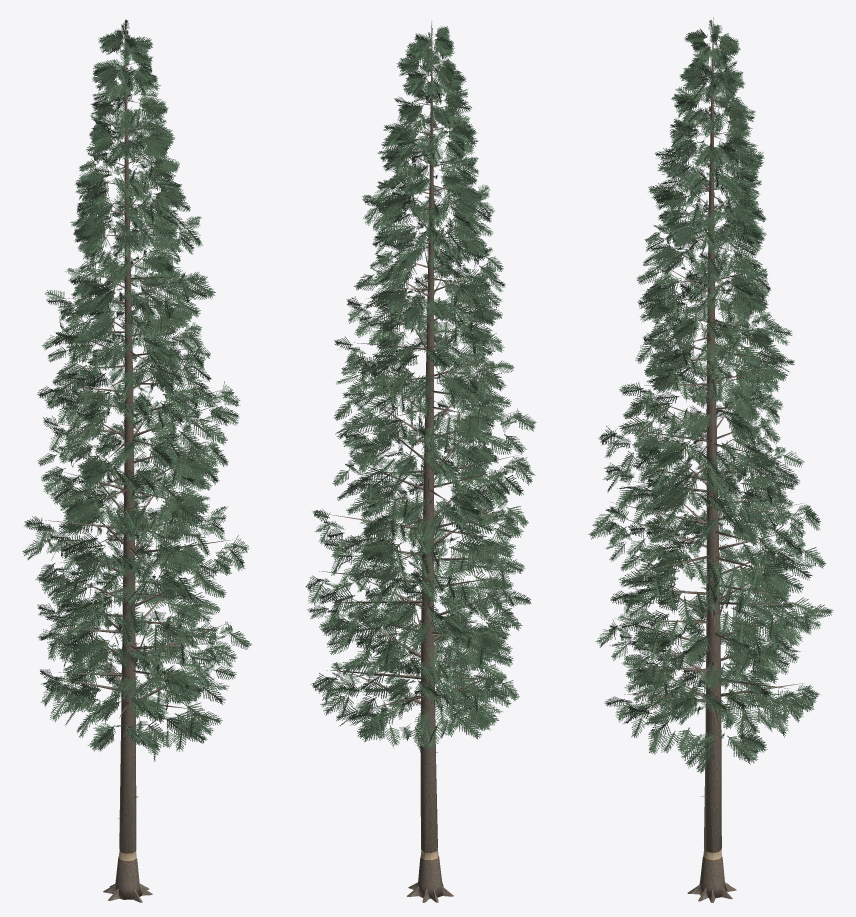
File: Sitka_RingBarked_01_Fresh_LOD2.fbx
The picture shows the model from 3 angles, left to right: view 1: azimuth 30°, elevation 25°; view 2: azimuth 150°, elevation 25°; view 3: azimuth 270°, elevation 25°; orthographic projection.
Parts seen in each view (by area): view 1: Sitka_RingBarked_01_Fresh_LOD2_Foliage, Sitka_RingBarked_01_Fresh_LOD2_Trunk, Sitka_RingBarked_01_Fresh_LOD2_Branches; view 2: Sitka_RingBarked_01_Fresh_LOD2_Foliage, Sitka_RingBarked_01_Fresh_LOD2_Trunk, Sitka_RingBarked_01_Fresh_LOD2_Branches; view 3: Sitka_RingBarked_01_Fresh_LOD2_Foliage, Sitka_RingBarked_01_Fresh_LOD2_Trunk, Sitka_RingBarked_01_Fresh_LOD2_Branches.
Part boxes in pixels (<box>): Sitka_RingBarked_01_Fresh_LOD2_Foliage: <box>22,19,251,761</box>; Sitka_RingBarked_01_Fresh_LOD2_Trunk: <box>103,20,152,902</box>; Sitka_RingBarked_01_Fresh_LOD2_Branches: <box>42,34,232,818</box>; Sitka_RingBarked_01_Fresh_LOD2_Foliage: <box>305,25,536,752</box>; Sitka_RingBarked_01_Fresh_LOD2_Trunk: <box>407,21,453,902</box>; Sitka_RingBarked_01_Fresh_LOD2_Branches: <box>319,36,517,820</box>; Sitka_RingBarked_01_Fresh_LOD2_Foliage: <box>588,20,833,773</box>; Sitka_RingBarked_01_Fresh_LOD2_Trunk: <box>687,17,736,902</box>; Sitka_RingBarked_01_Fresh_LOD2_Branches: <box>610,43,811,796</box>.
Bounding box in the file's own units: 664 × 2600 × 713.
Materials: 4 (3 with a texture image).
